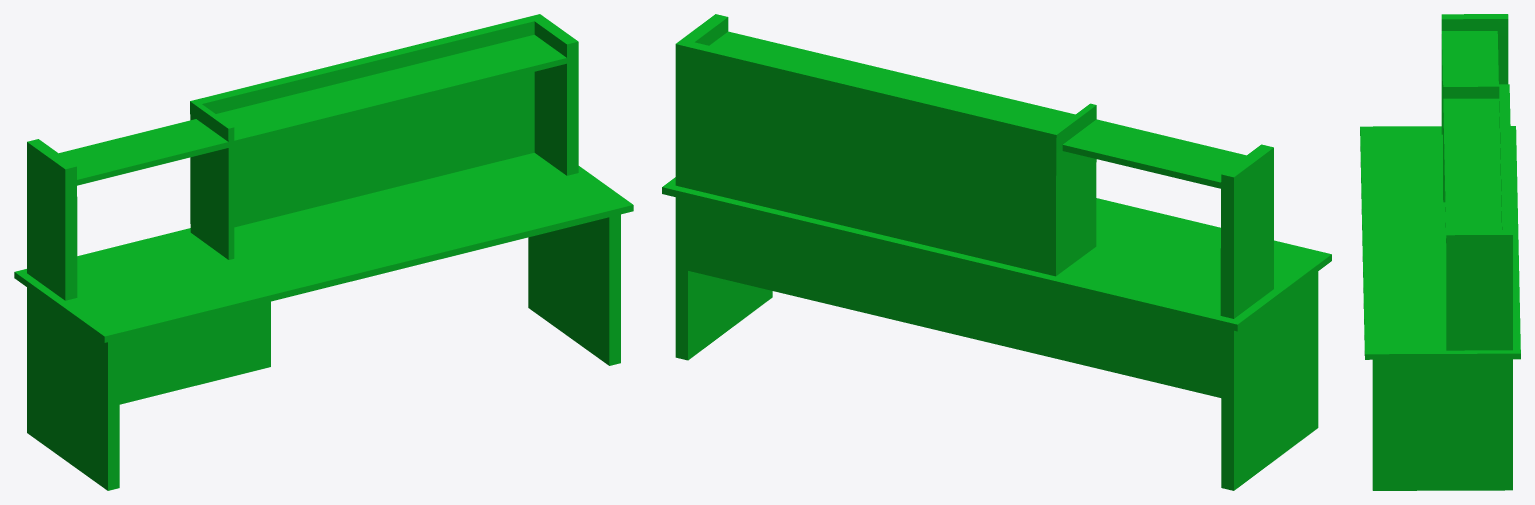
The model's file is Lab_Table2.FBX.
3 renders of one model, left to right at view 1: azimuth 30°, elevation 25°; view 2: azimuth 150°, elevation 25°; view 3: azimuth 270°, elevation 25°, orthographic. The views are drawn at different scales.
Visible parts, largest first — view 1: LabTable; view 2: LabTable; view 3: LabTable.
Boxes of the visible parts, bbox=[...] form: LabTable: bbox=[14, 14, 633, 490]; LabTable: bbox=[662, 14, 1331, 490]; LabTable: bbox=[1360, 14, 1520, 490].
Size of the model in its own units: 221 by 116 by 65.9.
